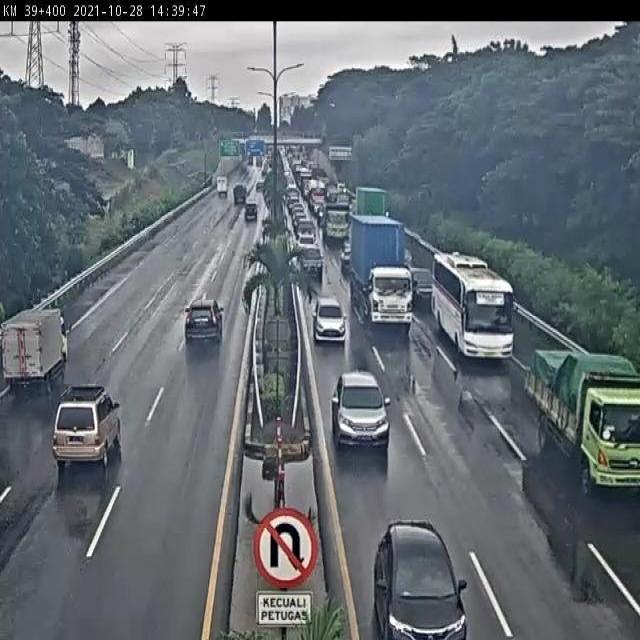big bus: (427, 244, 518, 365)
big truck: (346, 209, 413, 327), (353, 177, 390, 220)
car: (362, 512, 475, 640), (47, 375, 124, 477), (329, 365, 392, 452), (178, 293, 228, 352), (308, 293, 346, 347), (407, 259, 438, 304), (298, 244, 325, 281), (230, 178, 250, 210), (297, 230, 319, 254), (243, 199, 263, 225), (296, 222, 318, 242), (254, 178, 268, 198)
mid truck: (522, 346, 640, 498), (317, 201, 351, 244)
small truck: (0, 296, 75, 395), (211, 173, 229, 203)
